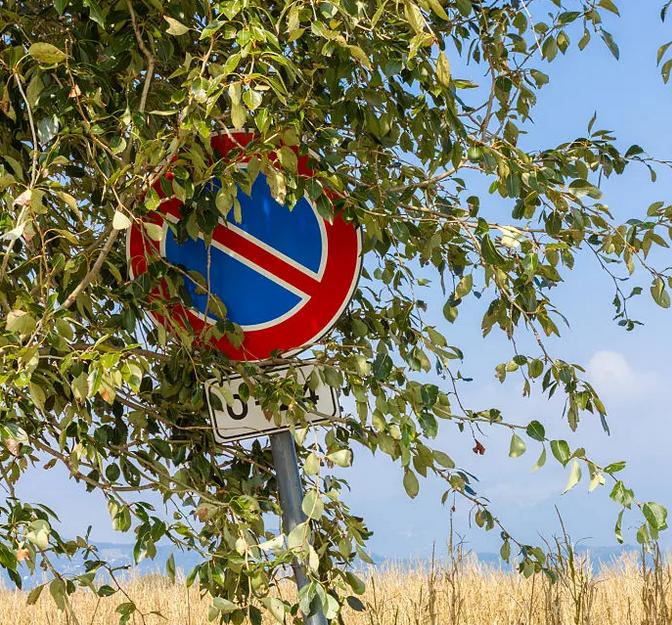obstructed_road_sign: (124, 130, 364, 363), (206, 356, 343, 443)
